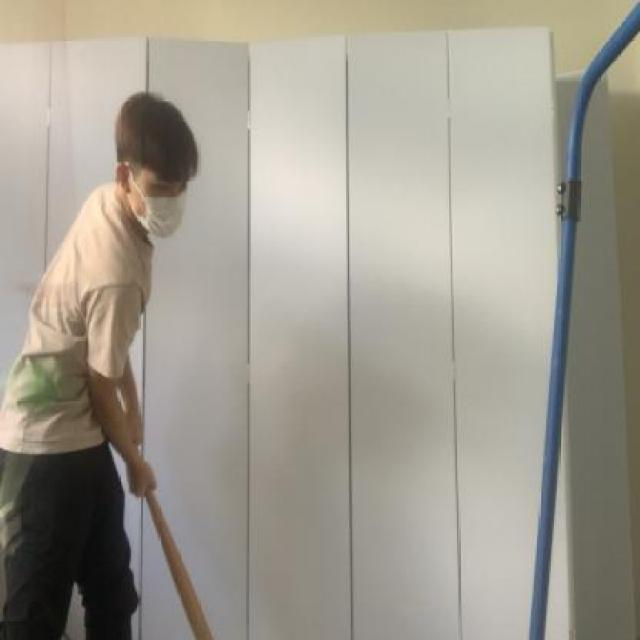baseball: (0, 356, 69, 435)
